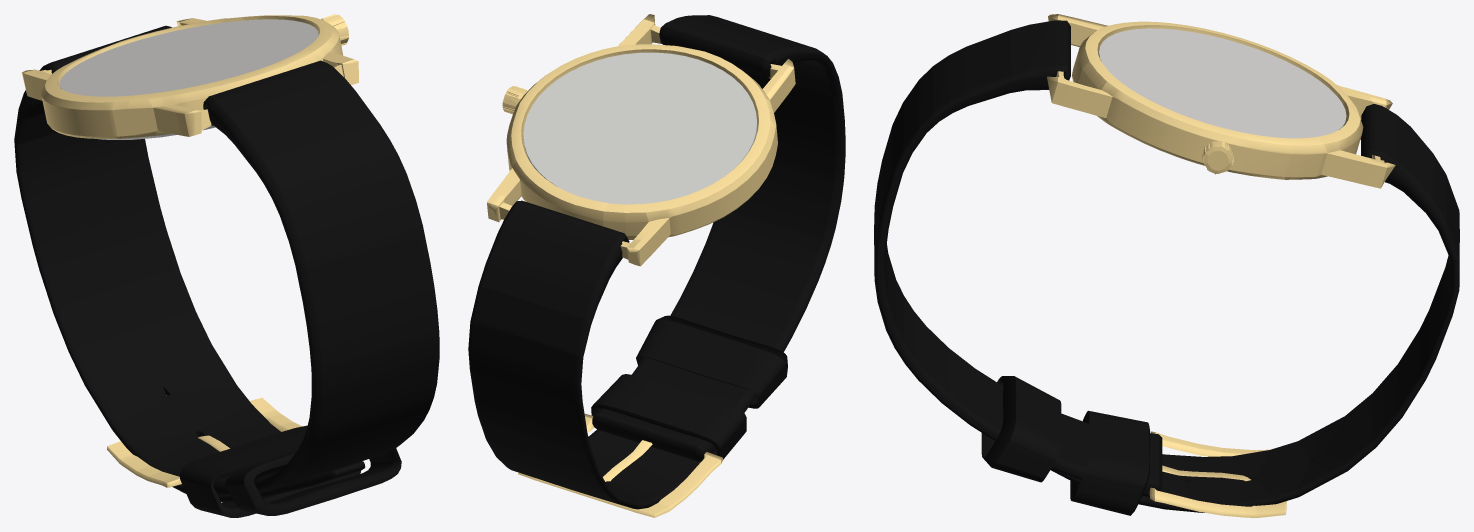
File: watch.fbx
The picture shows the model from 3 angles, left to right: view 1: azimuth 30°, elevation 25°; view 2: azimuth 150°, elevation 25°; view 3: azimuth 270°, elevation 25°; orthographic projection. The views are drawn at different scales.
Visible parts, largest first — view 1: wrist_watch_with_leather_watchstrap:watch_2_watchstrap, wrist_watch_with_leather_watchstrap:watch_2_body, wrist_watch_with_leather_watchstrap:watch_2_glass; view 2: wrist_watch_with_leather_watchstrap:watch_2_watchstrap, wrist_watch_with_leather_watchstrap:watch_2_glass, wrist_watch_with_leather_watchstrap:watch_2_body; view 3: wrist_watch_with_leather_watchstrap:watch_2_watchstrap, wrist_watch_with_leather_watchstrap:watch_2_body, wrist_watch_with_leather_watchstrap:watch_2_glass.
Part boxes in pixels (x1,y1,x2,y2): wrist_watch_with_leather_watchstrap:watch_2_watchstrap: (14, 25, 439, 517); wrist_watch_with_leather_watchstrap:watch_2_body: (21, 14, 359, 139); wrist_watch_with_leather_watchstrap:watch_2_glass: (59, 19, 318, 96); wrist_watch_with_leather_watchstrap:watch_2_watchstrap: (468, 15, 845, 517); wrist_watch_with_leather_watchstrap:watch_2_glass: (523, 52, 757, 204); wrist_watch_with_leather_watchstrap:watch_2_body: (487, 14, 795, 266); wrist_watch_with_leather_watchstrap:watch_2_watchstrap: (874, 20, 1459, 517); wrist_watch_with_leather_watchstrap:watch_2_body: (1047, 14, 1395, 188); wrist_watch_with_leather_watchstrap:watch_2_glass: (1098, 28, 1346, 138).
Bounding box in the file's own units: 0.034 × 0.0521 × 0.0625.
